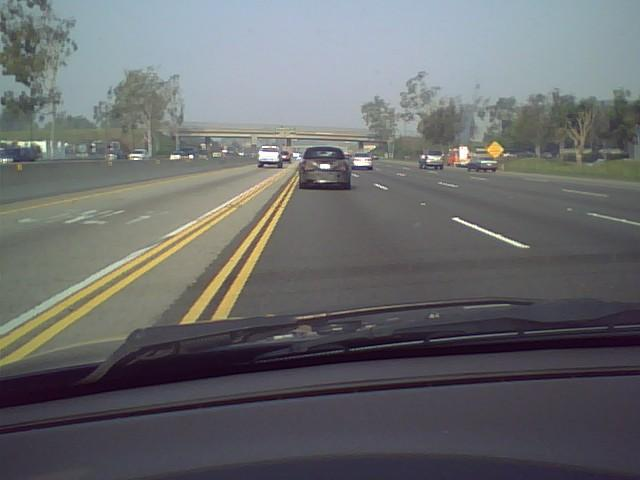car: (297, 146, 351, 189), (466, 148, 498, 172), (1, 148, 34, 168), (257, 145, 283, 168), (447, 146, 472, 168), (419, 150, 444, 169), (352, 152, 373, 170), (127, 149, 151, 161), (182, 147, 196, 161), (278, 150, 291, 163), (198, 149, 209, 161), (169, 150, 182, 160), (212, 149, 224, 159)
